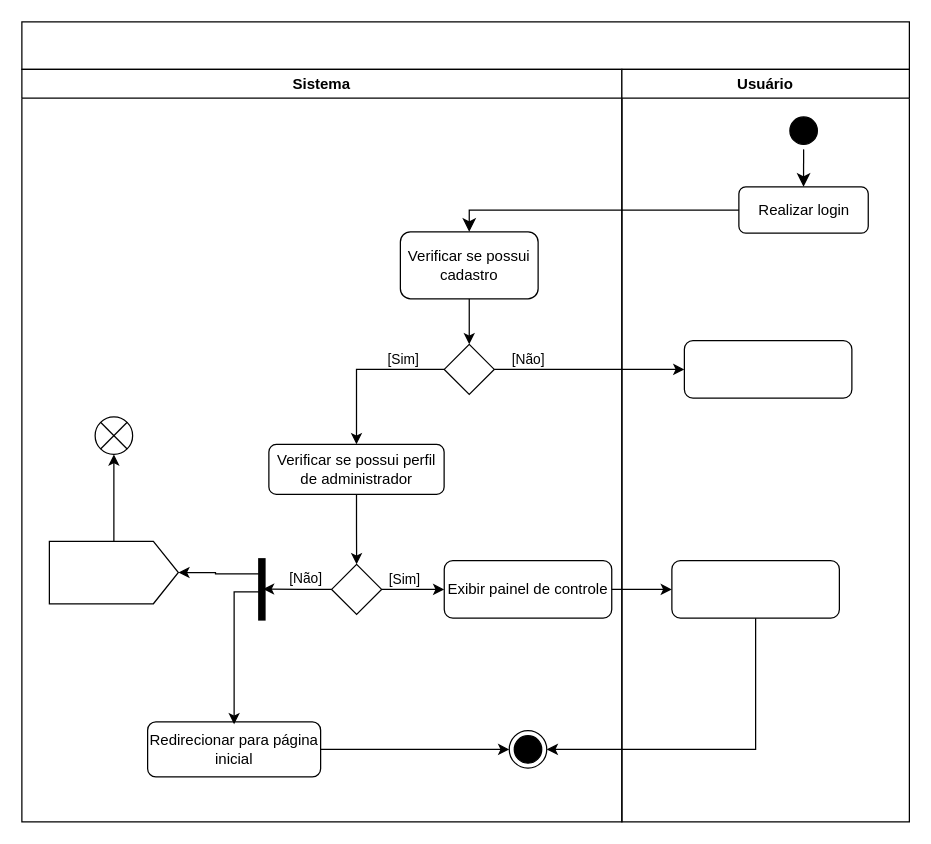
The diagram is 931 pixels wide and 844 high, and some of its shapes have lost their labels. The shapes that lost their labels are listed below. From the top down, each one's centre as x and y in pixels, then its label:
(x=465, y=45): Diagrama de Atividades: Visualizar Painel de Controle
(x=767, y=368): Realizar cadastro
(x=113, y=572): Notificação de acesso negado
(x=755, y=588): Cadastrar, editar ou excluir um produto
